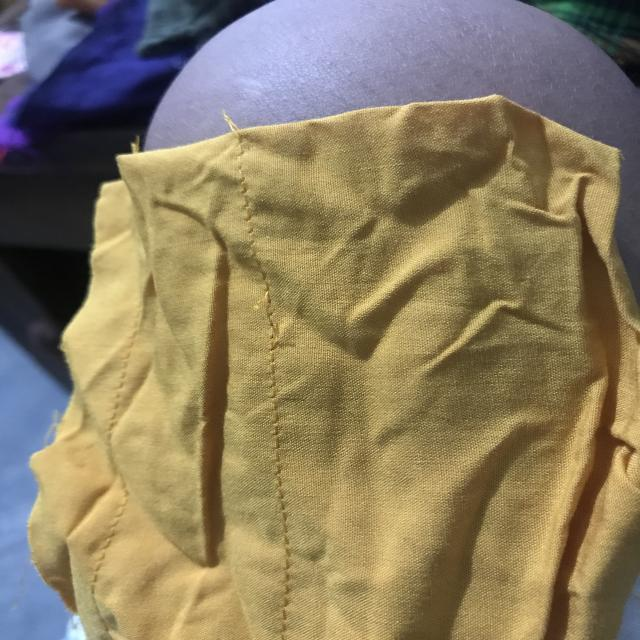broken: (240, 279, 298, 354)
good: (254, 380, 308, 512)
